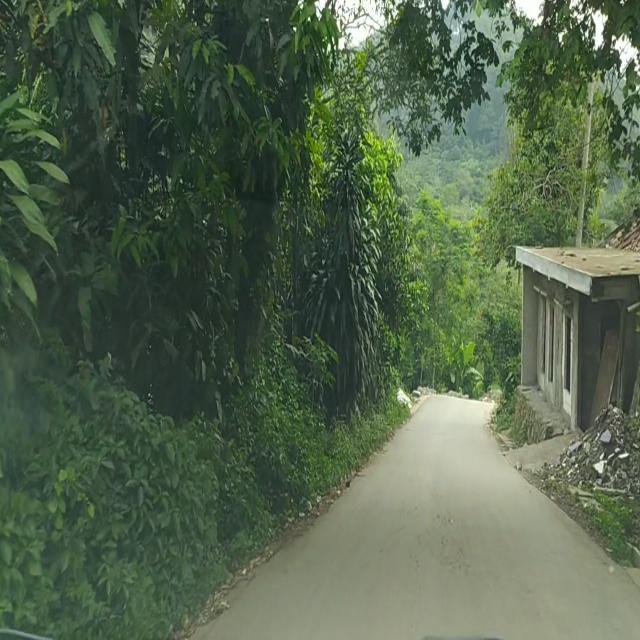Drain Hole: (375, 505, 465, 564)
